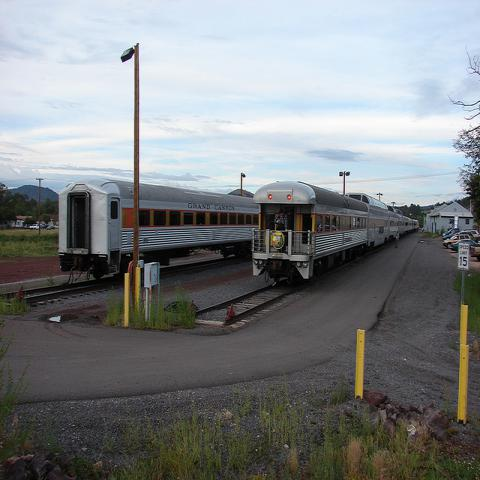car: (443, 234, 470, 248), (450, 239, 477, 253), (447, 231, 474, 241), (443, 228, 460, 241), (469, 243, 479, 262)
